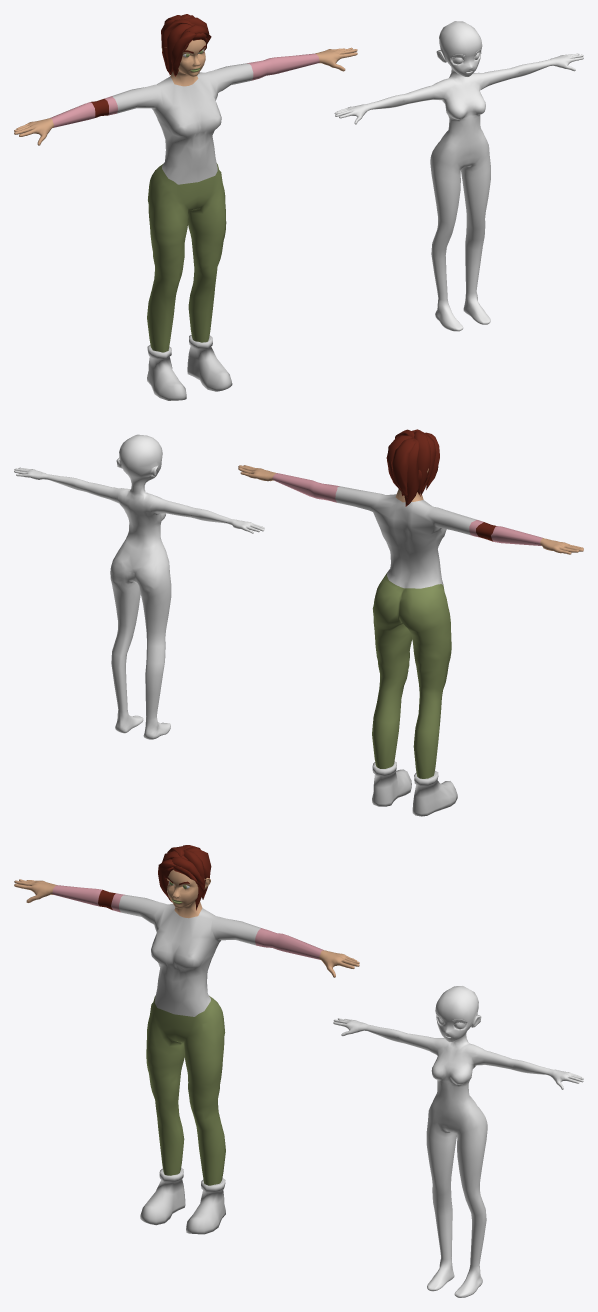
The model's file is MULHER_11.fbx.
3 renders of one model, top to bottom at view 1: azimuth 30°, elevation 25°; view 2: azimuth 150°, elevation 25°; view 3: azimuth 330°, elevation 25°, orthographic.
Visible parts, largest first — view 1: Mesh.002, MULHER_01; view 2: Mesh.002, MULHER_01; view 3: Mesh.002, MULHER_01.
Part boxes in pixels (left/top/right/bottom): Mesh.002: left=14, top=14, right=357, bottom=400; MULHER_01: left=334, top=21, right=583, bottom=331; Mesh.002: left=238, top=429, right=583, bottom=816; MULHER_01: left=14, top=434, right=264, bottom=739; Mesh.002: left=14, top=845, right=359, bottom=1234; MULHER_01: left=333, top=986, right=583, bottom=1297.
Size of the model in its own units: 297 by 184 by 30.22.
